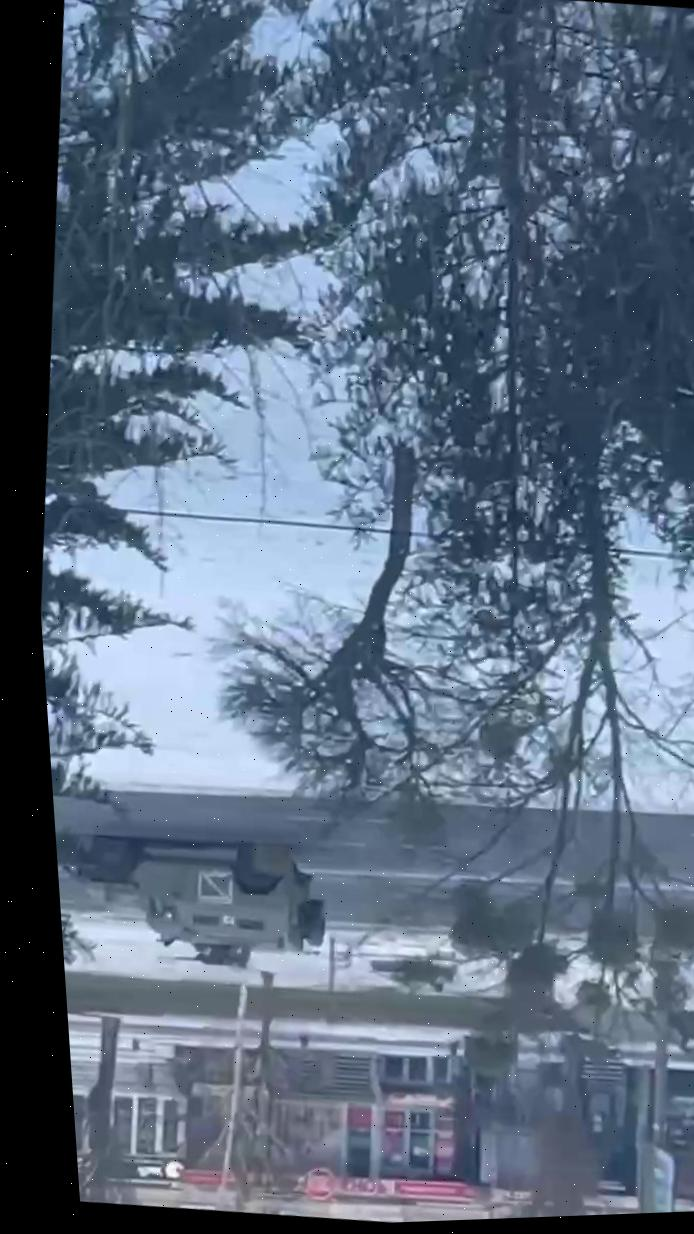armored_car: (55, 816, 335, 982)
